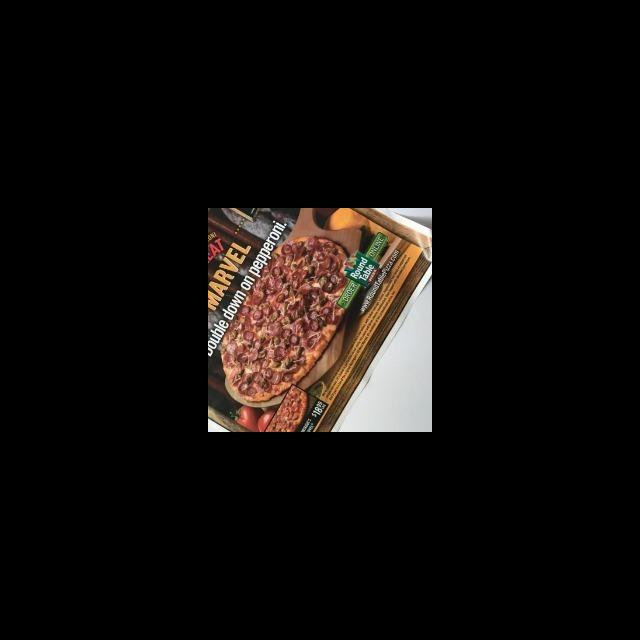paper: (208, 208, 431, 431)
